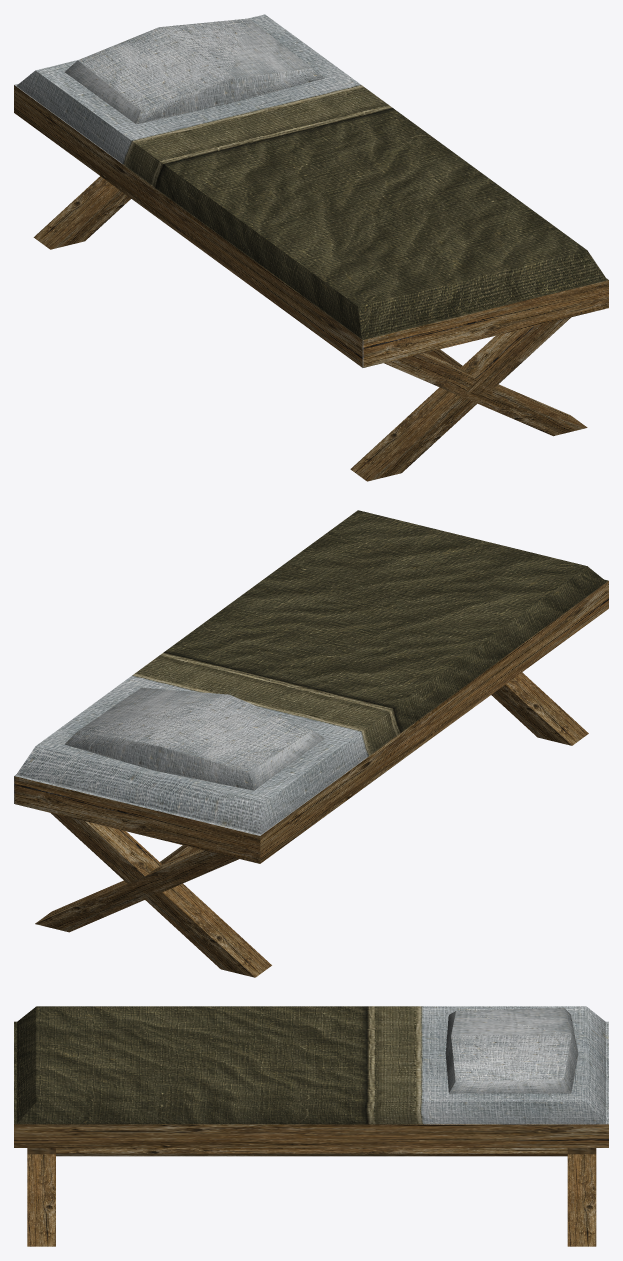
Rendered from mm9_deco_cot.glb.
3 views of the same model, one above another, from view 1: azimuth 30°, elevation 25°; view 2: azimuth 150°, elevation 25°; view 3: azimuth 270°, elevation 25° (orthographic). The views are drawn at different scales.
Visible parts, largest first — view 1: Cot; view 2: Cot; view 3: Cot.
Boxes of the visible parts, bbox=[...] form: Cot: bbox=[14, 14, 608, 481]; Cot: bbox=[14, 510, 608, 977]; Cot: bbox=[14, 1006, 608, 1246].
Bounding box in the file's own units: 1.11 × 0.8328 × 2.72.
Materials: 1 (1 with a texture image).
